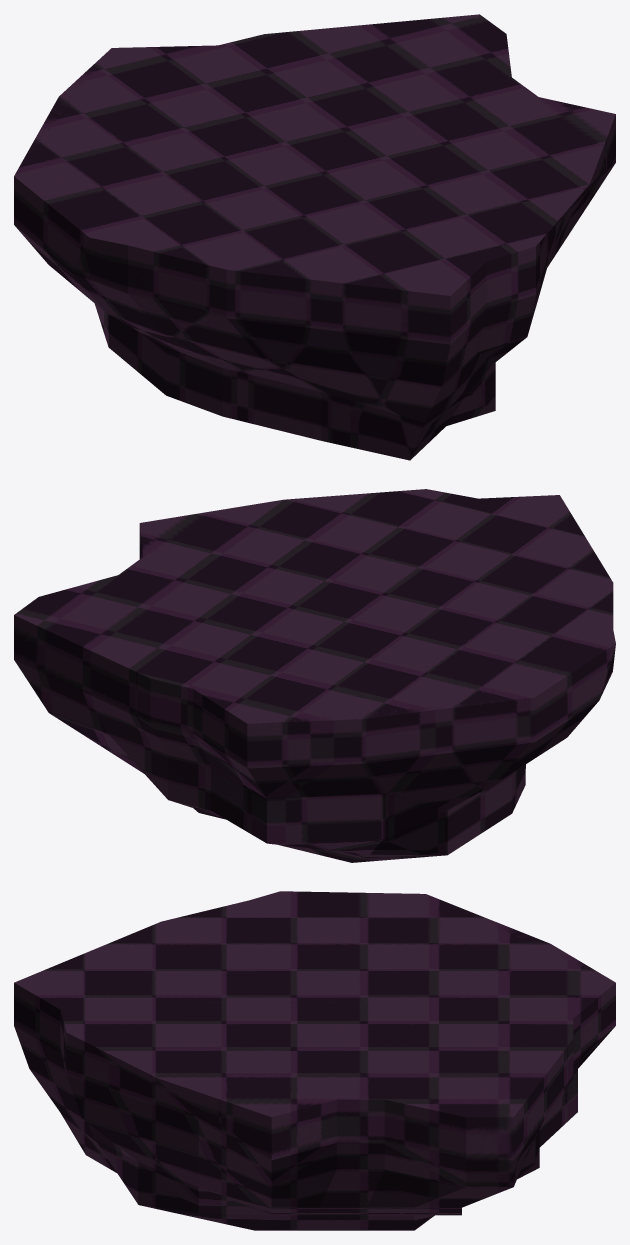
The model's file is CyberIsland.fbx.
3 renders of one model, top to bottom at view 1: azimuth 30°, elevation 25°; view 2: azimuth 150°, elevation 25°; view 3: azimuth 270°, elevation 25°, orthographic. The views are drawn at different scales.
Visible parts, largest first — view 1: Cube; view 2: Cube; view 3: Cube.
Boxes of the visible parts, x1,y1,x2,y2 form: Cube: (14,14,615,460); Cube: (14,489,615,862); Cube: (14,891,615,1230).
Bounding box in the file's own units: 562 × 241 × 633.
